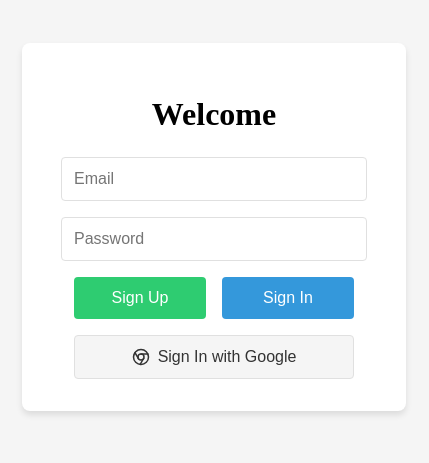
Test: AuthForm › Sign Up › handles successful sign up for regular user
Note: Fill in form
Type "test@example.com" into the field with placeholder "Email" at (214, 179), box x1=61 y1=157 x2=367 y2=201
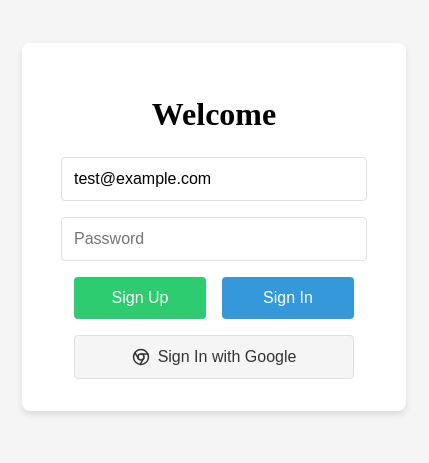
Type "password123" into the password field with placeholder "Password" at (214, 239), box x1=61 y1=217 x2=367 y2=261
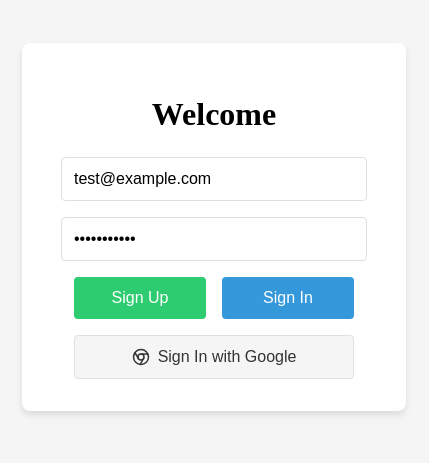
Note: Submit form
Click the button "Sign Up" at (140, 298), box x1=74 y1=277 x2=206 y2=319
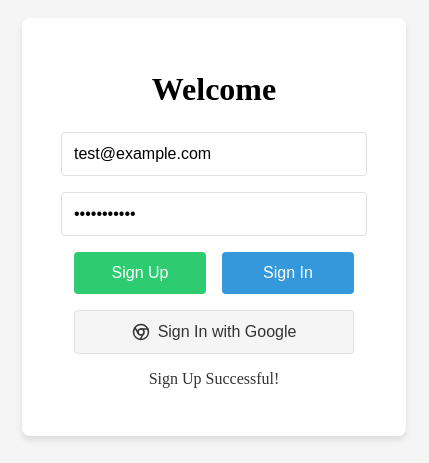
Expected: the text "Sign Up Successful!" is shown, x1=149 y1=370 x2=279 y2=388
